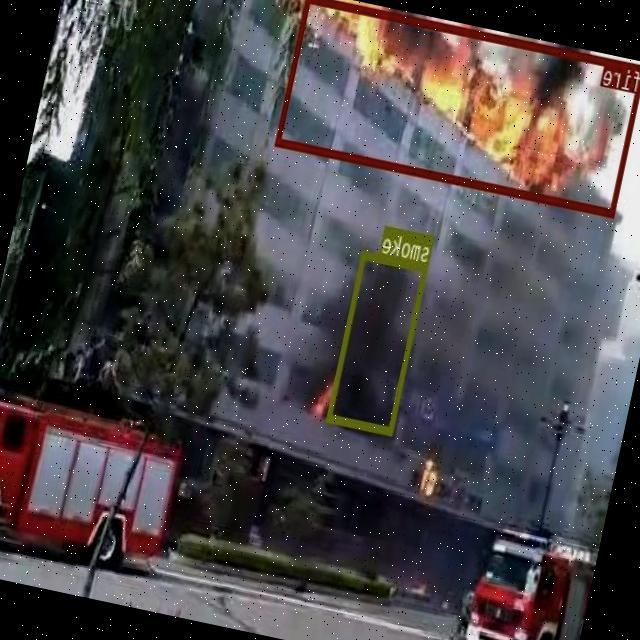fire: (276, 0, 640, 215)
smoke: (327, 249, 430, 434)
